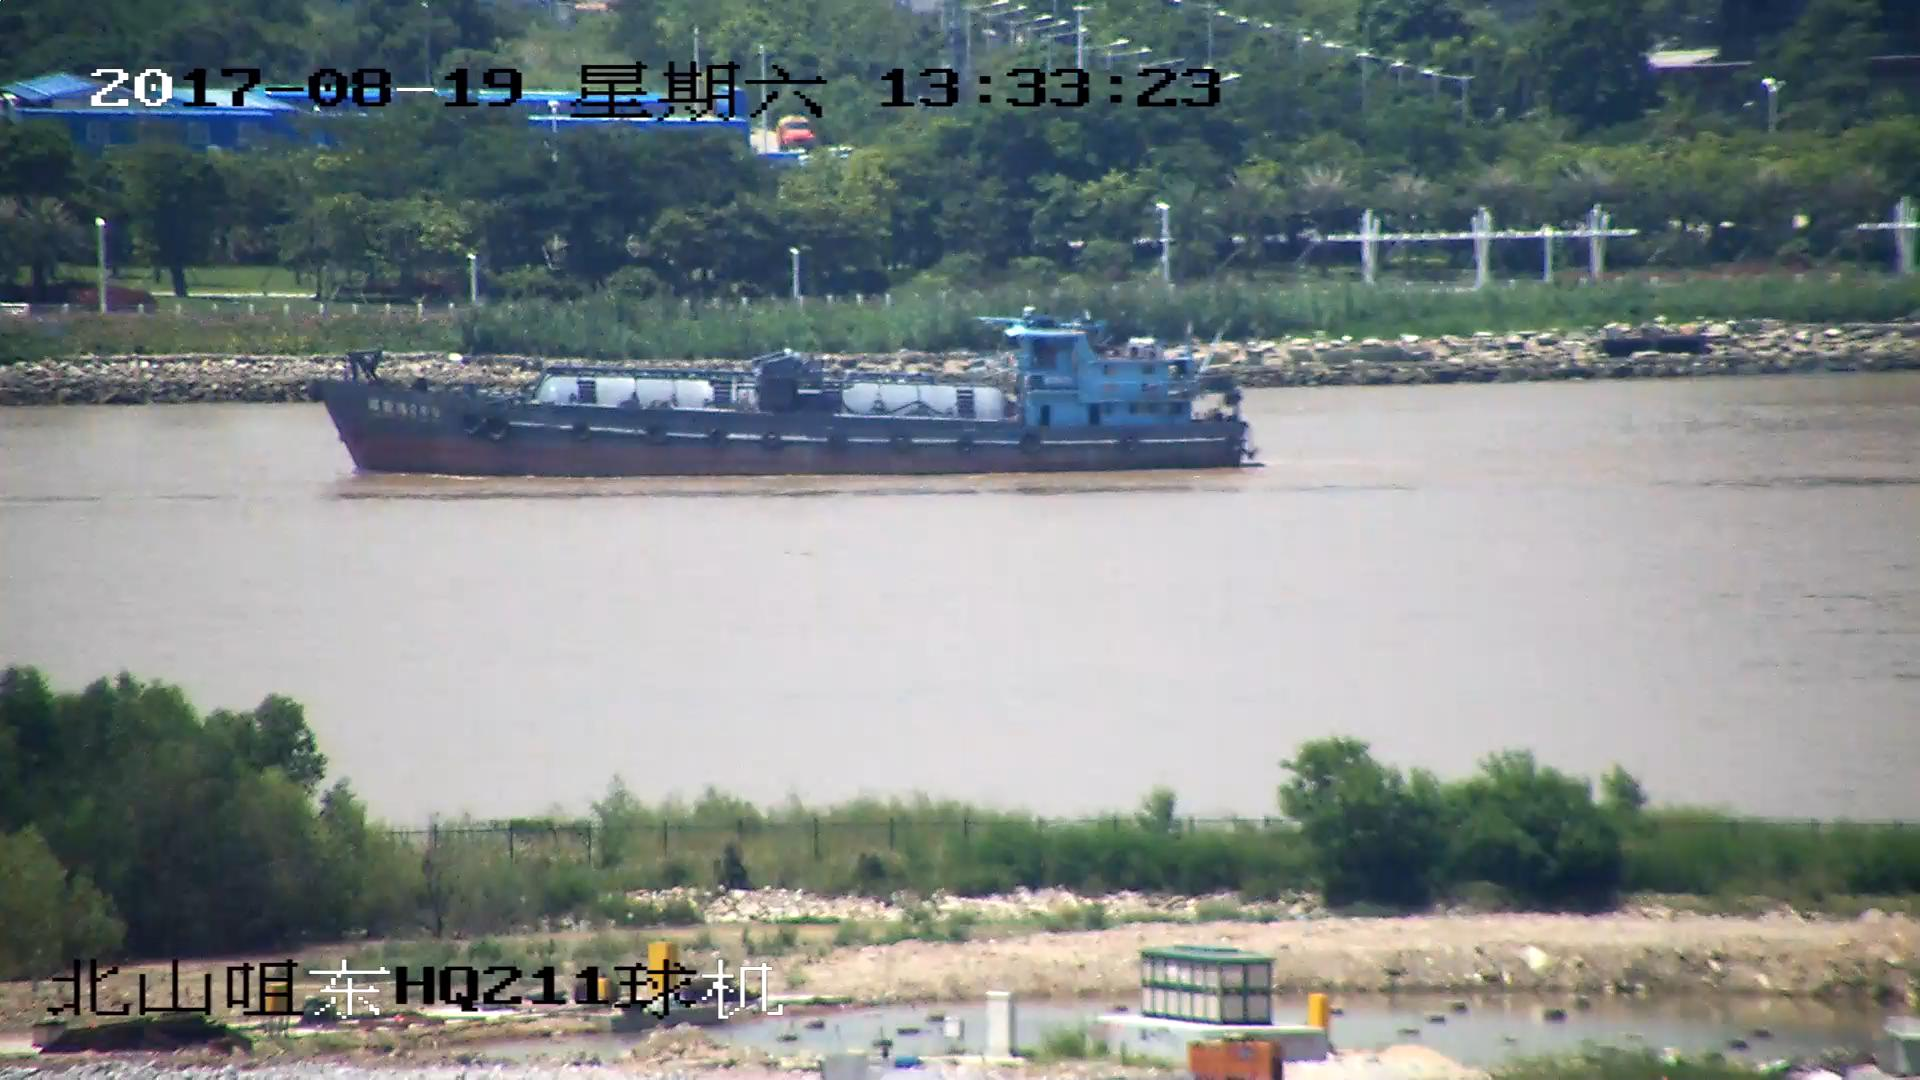bulk cargo carrier: (305, 316, 1255, 473)
